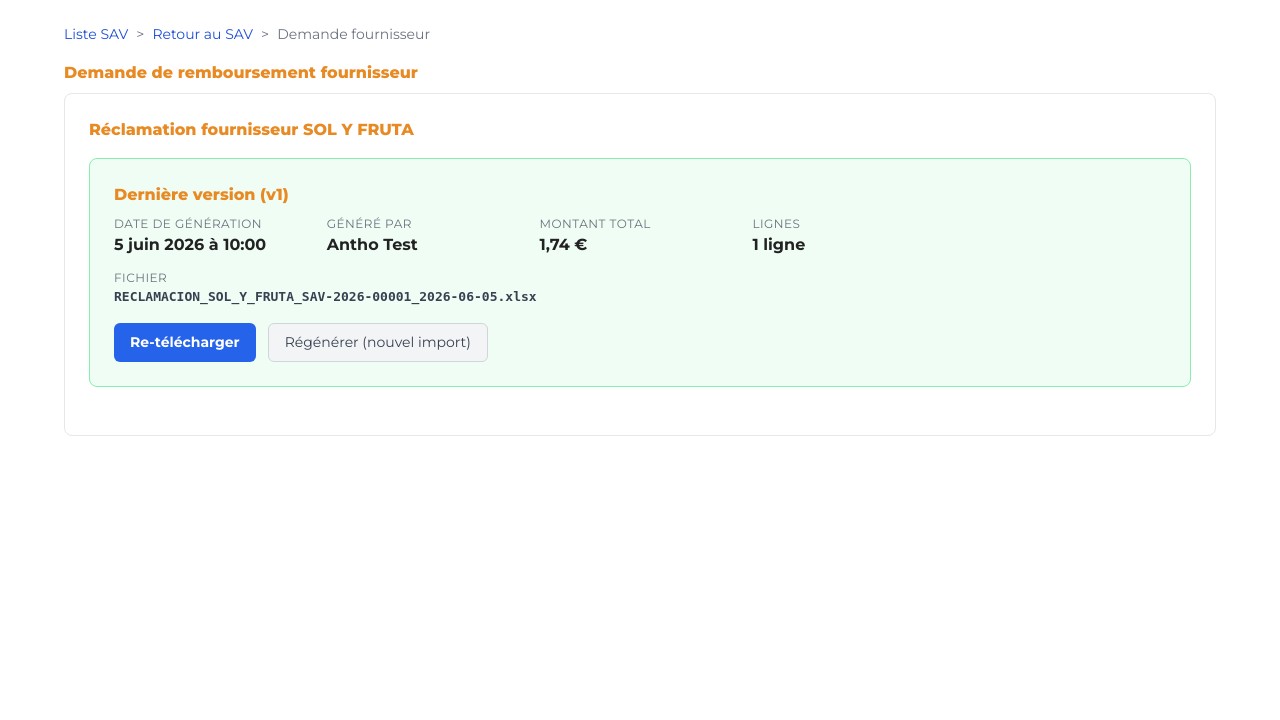
it: HIST-UI-04: click "Régénérer" → modale de confirmation visible (AC #6l, DN-4 LOCKED) › HIST-UI-04a: click "Régénérer" → modale data-testid="regenerate-confirm-modal" visible
Click the button with test id "regenerate-btn".
click(378, 342)  # box [268,322,488,362]
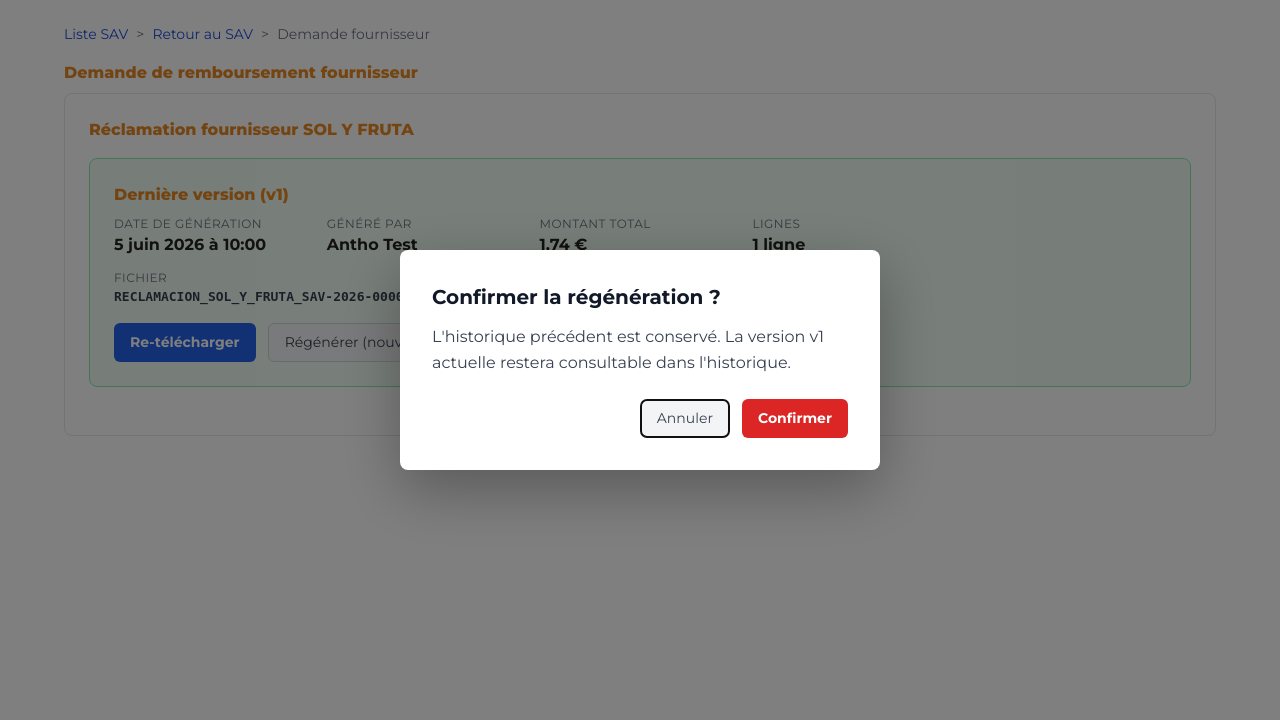
Check: the dialog with test id "regenerate-confirm-modal" is shown
